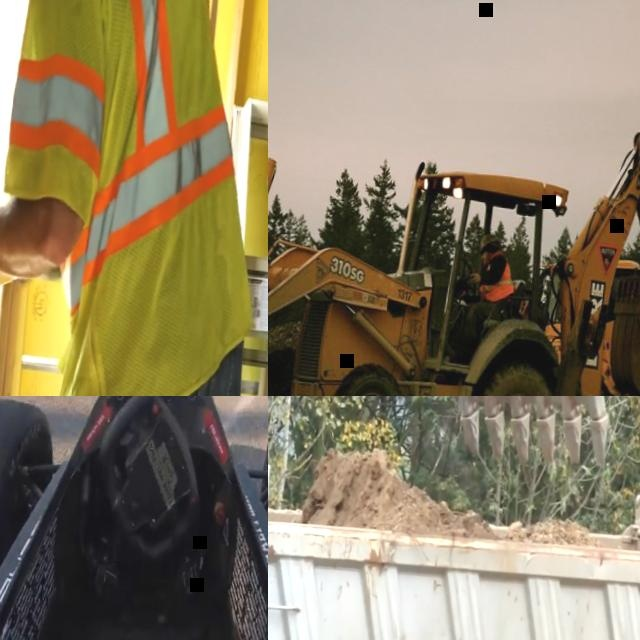Hardhat: (477, 231, 498, 250)
NO-Mask: (480, 251, 491, 265)
Person: (0, 0, 268, 396), (448, 228, 519, 368)
Safety Vest: (0, 0, 268, 396), (476, 249, 516, 302)
machinery: (268, 86, 640, 396), (268, 407, 640, 640), (416, 396, 640, 474), (530, 246, 640, 396)
vehicle: (0, 396, 268, 640)
